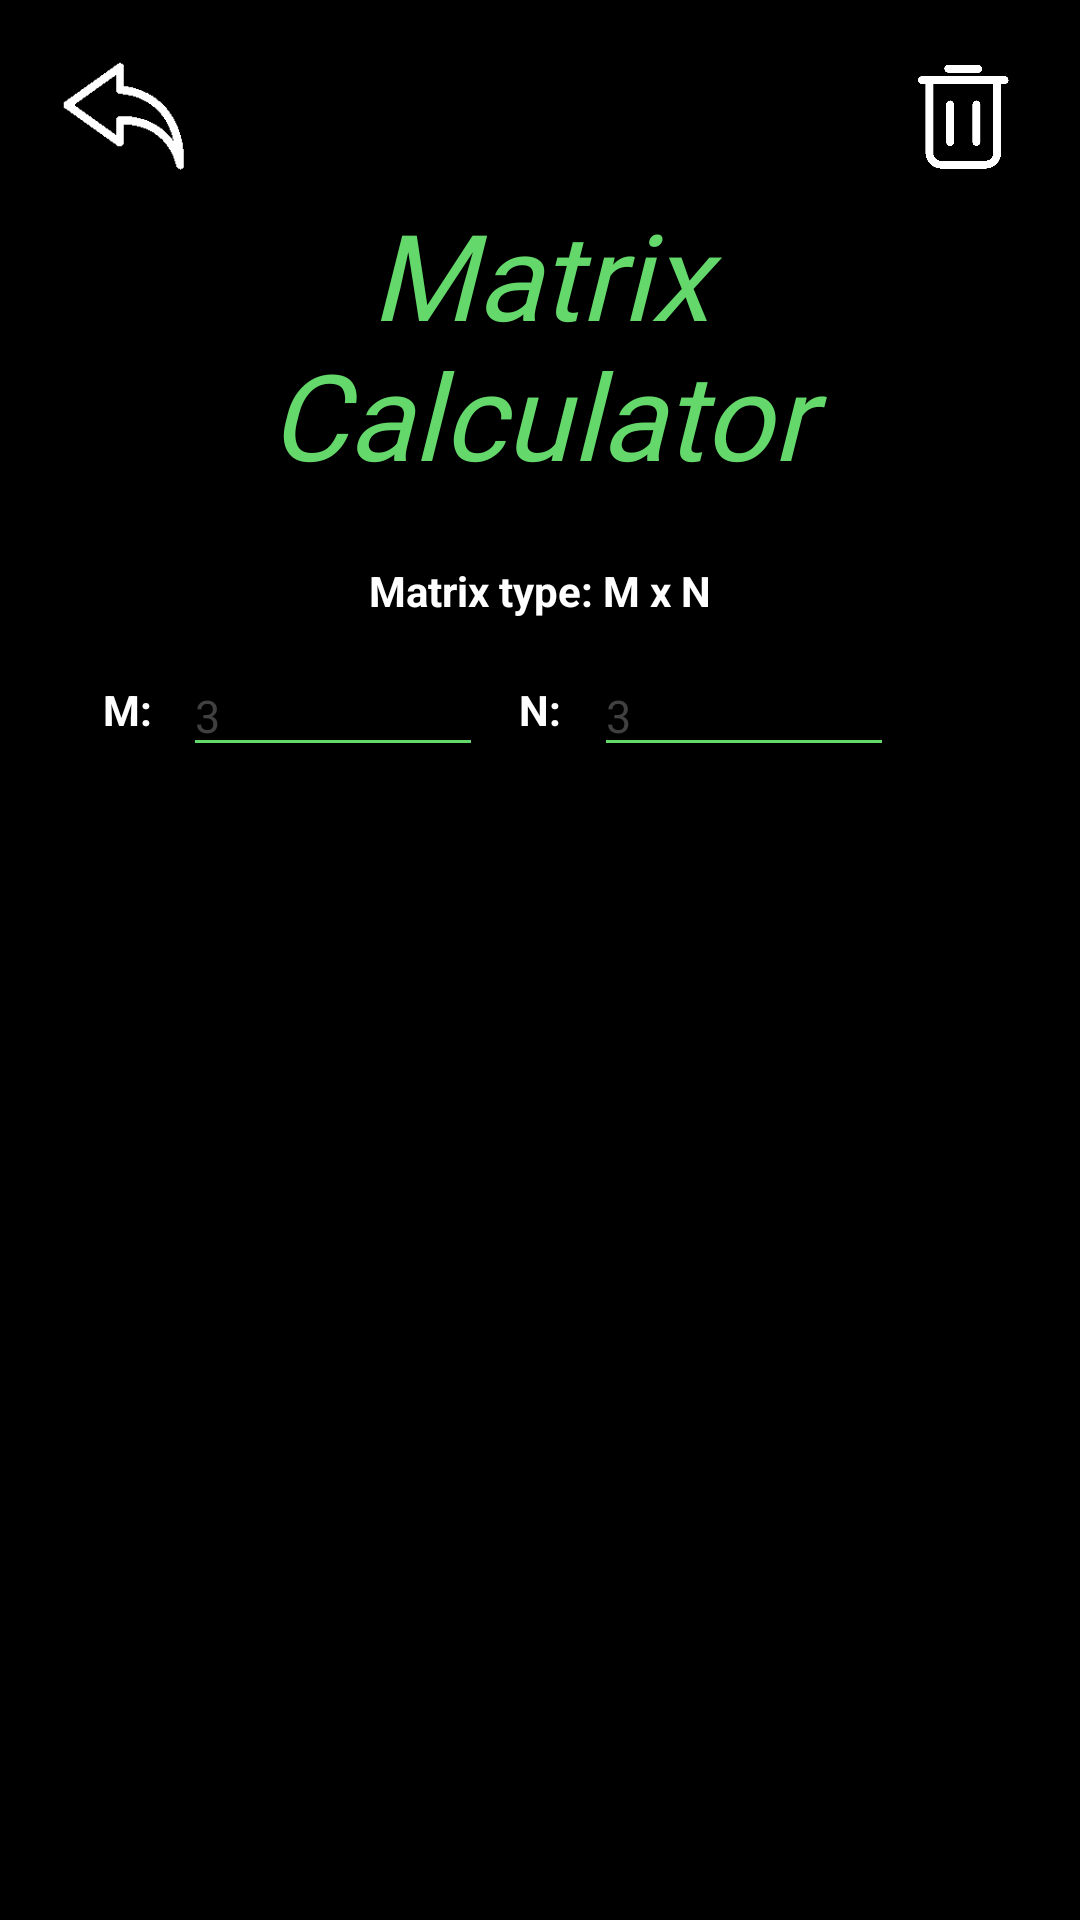

Icons on this 1080*1920 Android screen, each with the point to tap as point (x, y):
backicon: point (123, 116)
Delete: point (963, 117)
